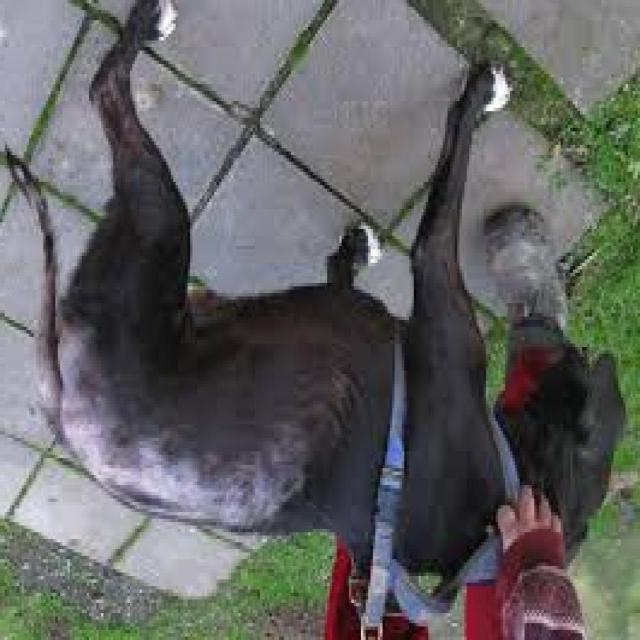allergic dermatitis: (114, 441, 302, 524)
